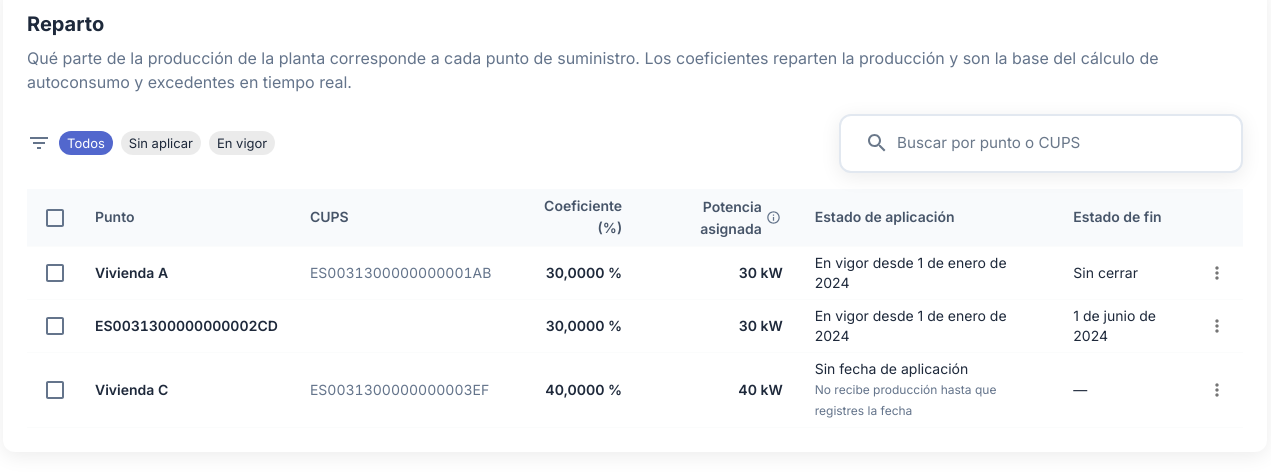
Test: SharingAgreementCoefficientSet (lifecycle actions) › keeps the actions column visible once every visible row is actionable, including under a filter that leaves only PENDING rows
Expected: the button named "Más acciones" is shown, [1207,263,1227,283]
Click the button "Sin aplicar".
click(161, 143)  # box [121,131,201,155]
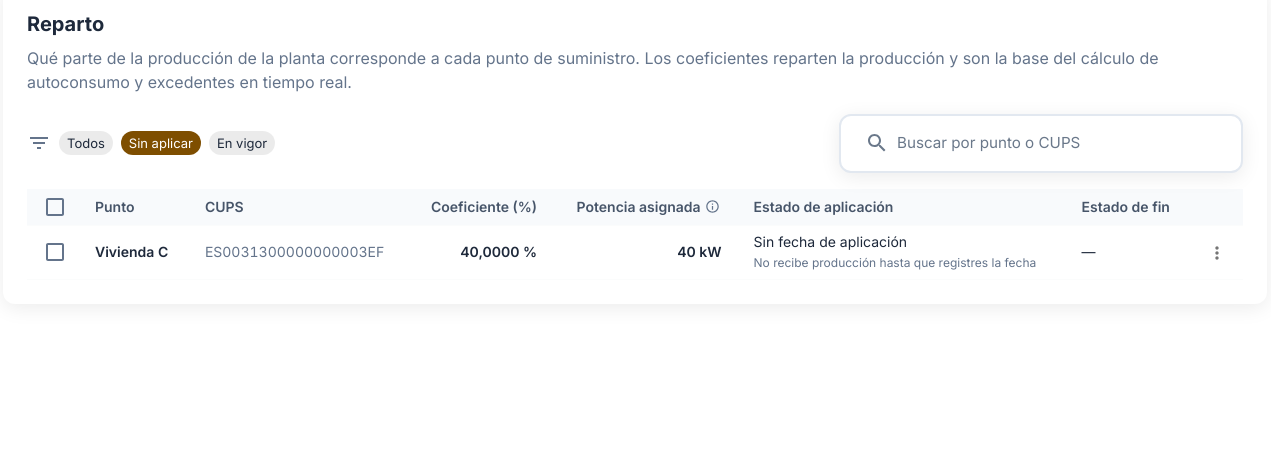
Expected: the number of buttons named "Más acciones" is 2
